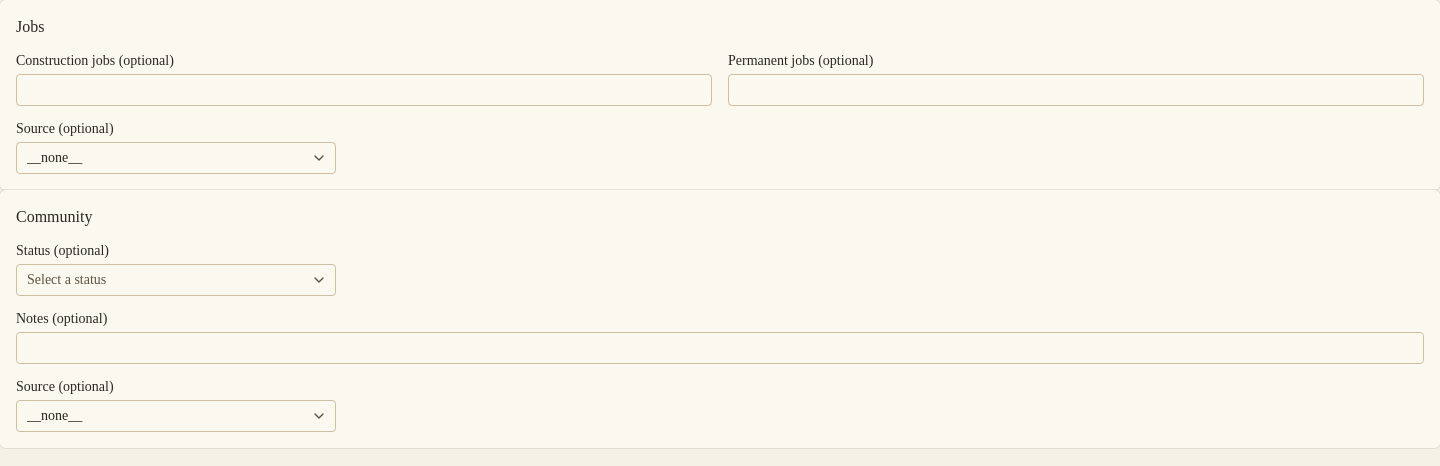
Scenario: FacilityJobsCommunitySection › wires the live sources array into both jobs.sourceIndex and community.sourceIndex pickers
Click the dropdown named "source (optional)" at (55, 158), box [16, 142, 336, 174]
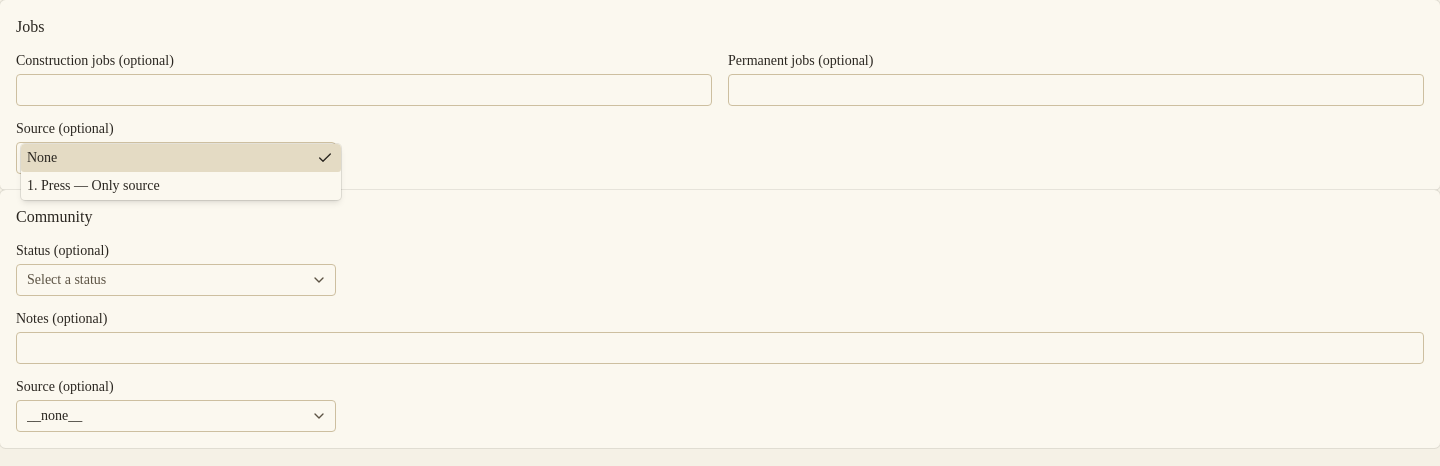
Now the option "1. Press — Only source" is shown, box [27, 178, 160, 193]
